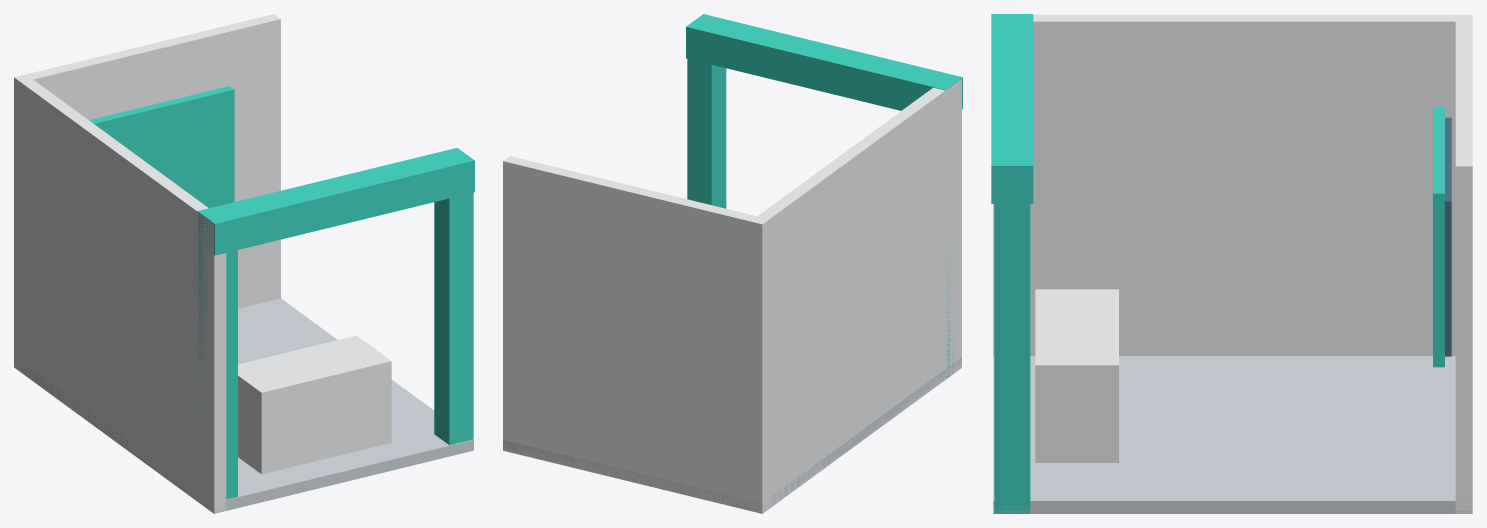
3 renders of one model, left to right at view 1: azimuth 30°, elevation 25°; view 2: azimuth 150°, elevation 25°; view 3: azimuth 270°, elevation 25°, orthographic. The views are drawn at different scales.
Visible parts, largest first — view 1: Exhibition Booth Concept; view 2: Exhibition Booth Concept; view 3: Exhibition Booth Concept.
Part boxes in pixels (box(x1,y1,x2,y2)): Exhibition Booth Concept: box(14, 14, 474, 513); Exhibition Booth Concept: box(503, 14, 962, 513); Exhibition Booth Concept: box(991, 14, 1472, 513).
Size of the model in its own units: 3 by 3.2 by 4.02.
